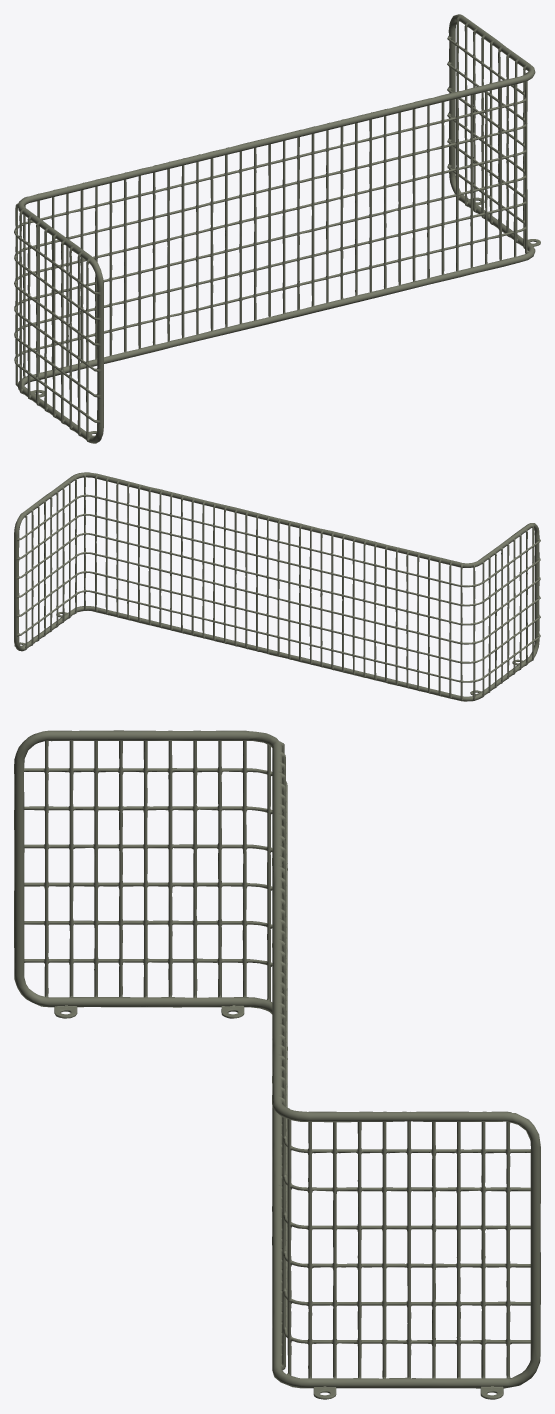
The model's file is svenshult_poka_scienna_90557259.glb.
3 views of the same model, one above another, from view 1: azimuth 30°, elevation 25°; view 2: azimuth 150°, elevation 25°; view 3: azimuth 270°, elevation 25° (orthographic). The views are drawn at different scales.
Visible parts, largest first — view 1: svenshult_poka_scienna_90557259; view 2: svenshult_poka_scienna_90557259; view 3: svenshult_poka_scienna_90557259.
Boxes of the visible parts, bbox=[...] form: svenshult_poka_scienna_90557259: bbox=[14, 14, 540, 443]; svenshult_poka_scienna_90557259: bbox=[14, 472, 540, 701]; svenshult_poka_scienna_90557259: bbox=[14, 730, 540, 1399].
Size of the model in its own units: 0.6193 by 0.2006 by 0.3469.
Materials: 1 (1 with a texture image).
